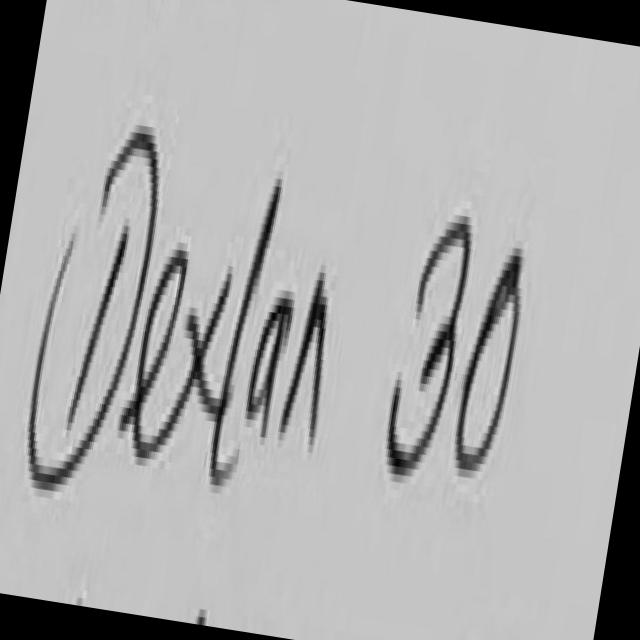0: (452, 269, 522, 491)
3: (381, 197, 472, 485)
D: (22, 101, 168, 507), (62, 229, 129, 431)
a: (242, 298, 291, 458)
e: (112, 244, 185, 481)
l: (204, 181, 279, 513)
n: (275, 274, 329, 444)
x: (170, 263, 234, 432)
